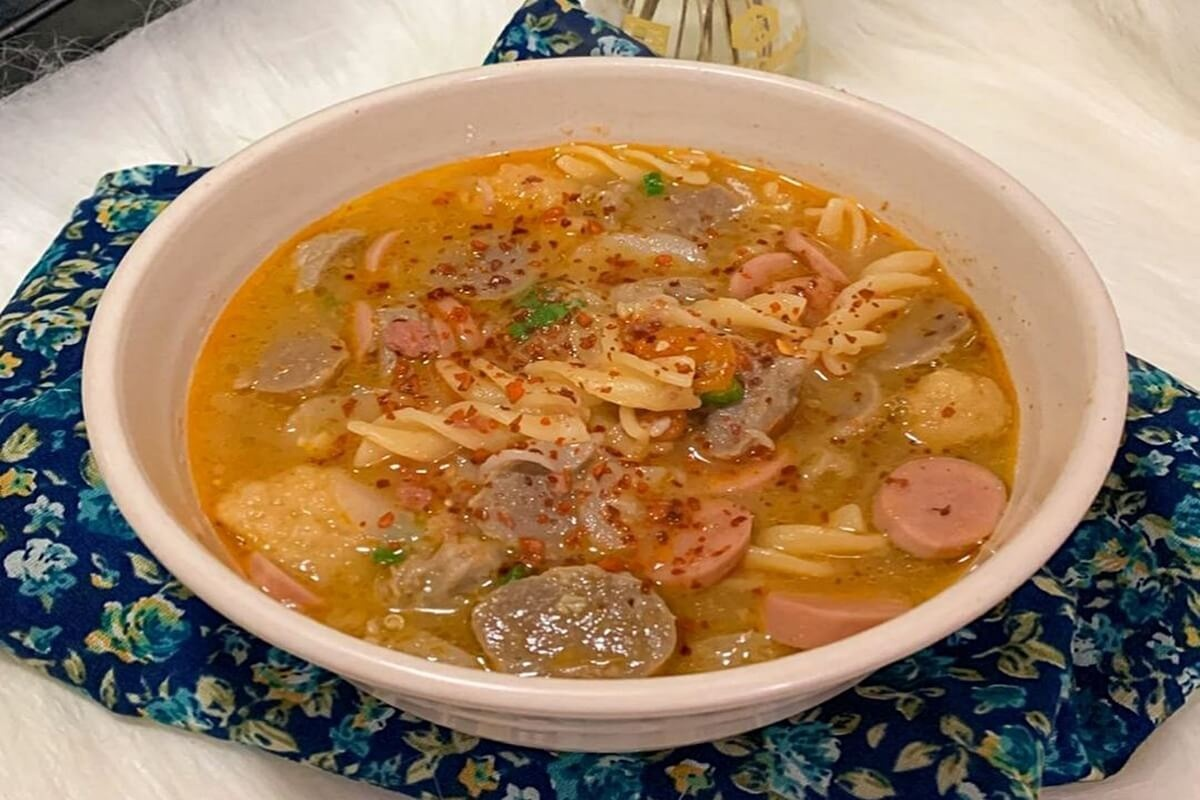seblak: (184, 143, 1023, 682)
